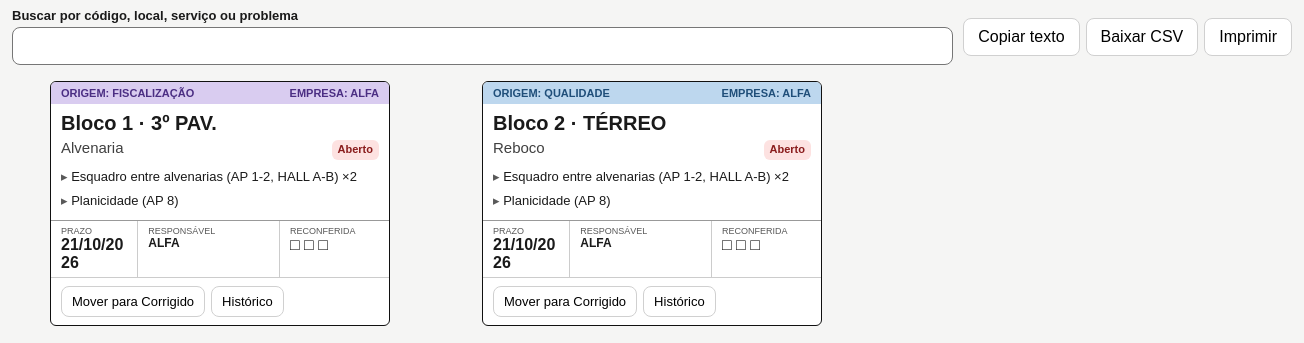
Test case: <Cards/> › lista os cards e busca por código, local, serviço ou problema, sem acento nem caixa
The width and height of the screenshot is (1304, 343).
Type "100002" into the search field labelled "Buscar por código, local, serviço ou problema" at (483, 46), box [12,27,953,65]
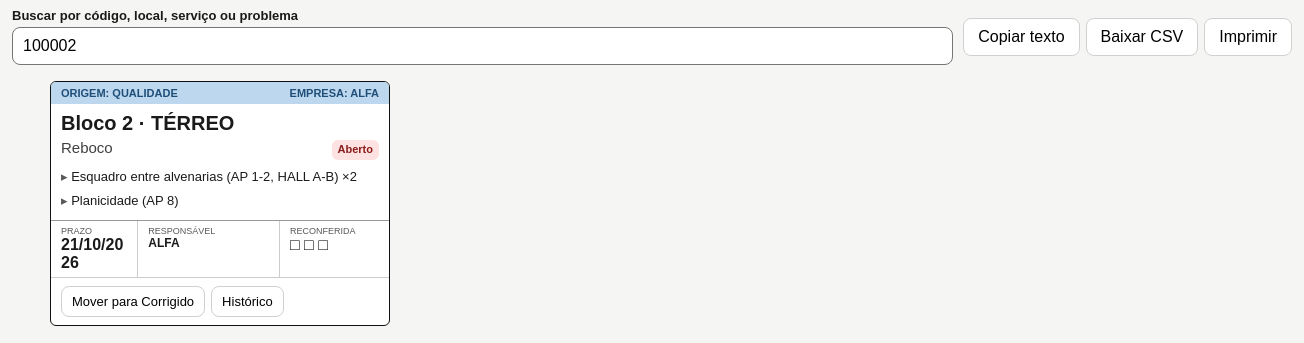
Replace the text in the search field labelled "Buscar por código, local, serviço ou problema" with "terreo" at (483, 46), box [12,27,953,65]
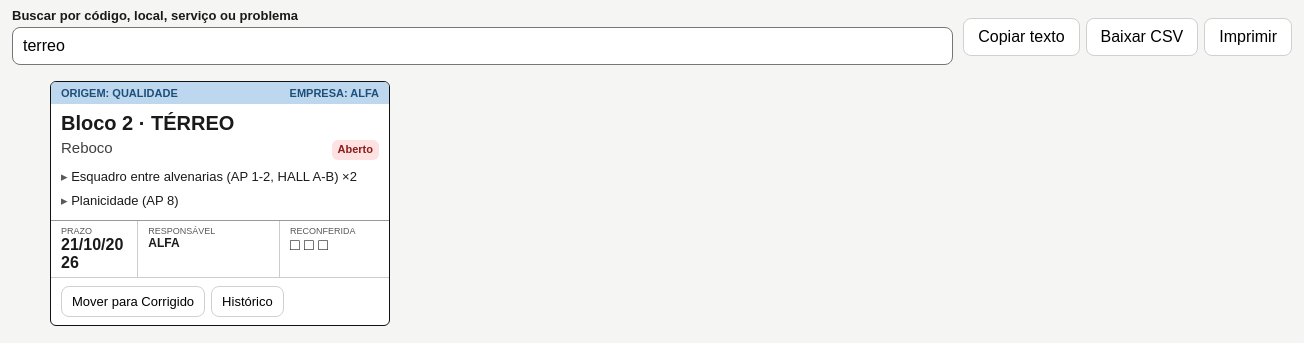
Replace the text in the search field labelled "Buscar por código, local, serviço ou problema" with "REBOCO" at (483, 46), box [12,27,953,65]
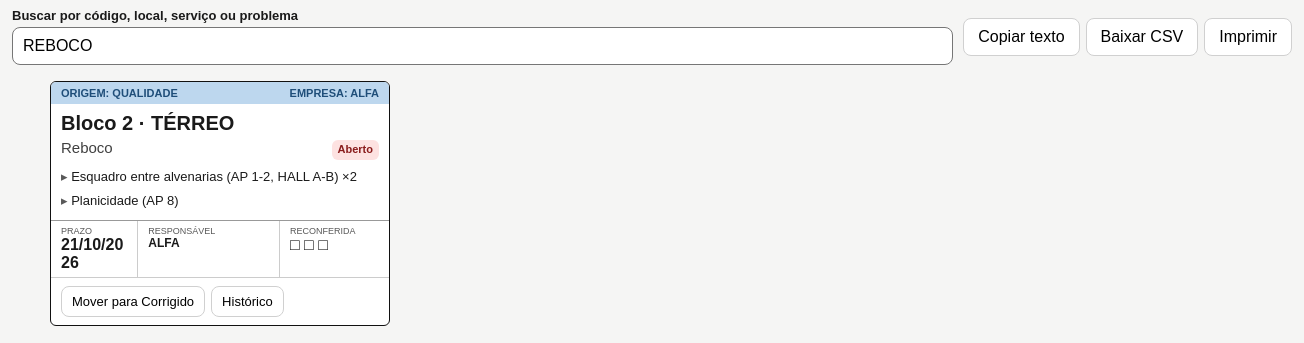
Replace the text in the search field labelled "Buscar por código, local, serviço ou problema" with "nada disso" at (483, 46), box [12,27,953,65]
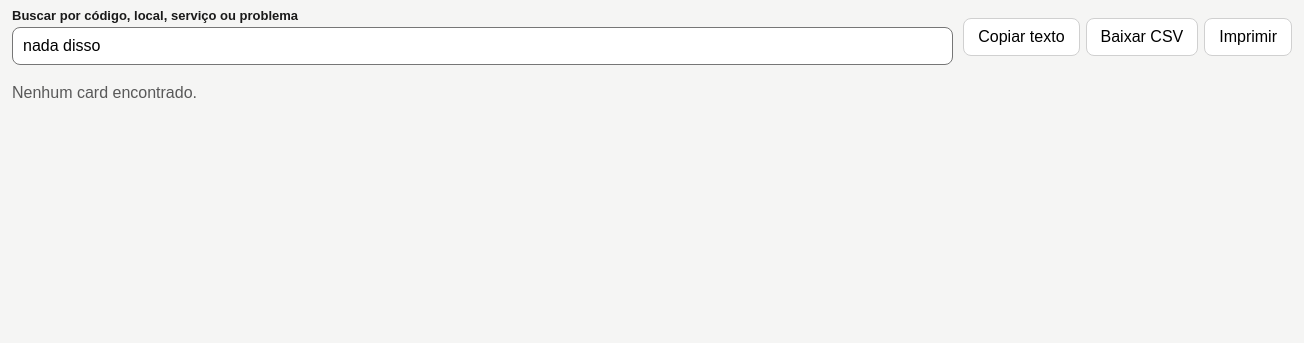
Expected: the text "Nenhum card encontrado." is shown, [12,84,197,101]
